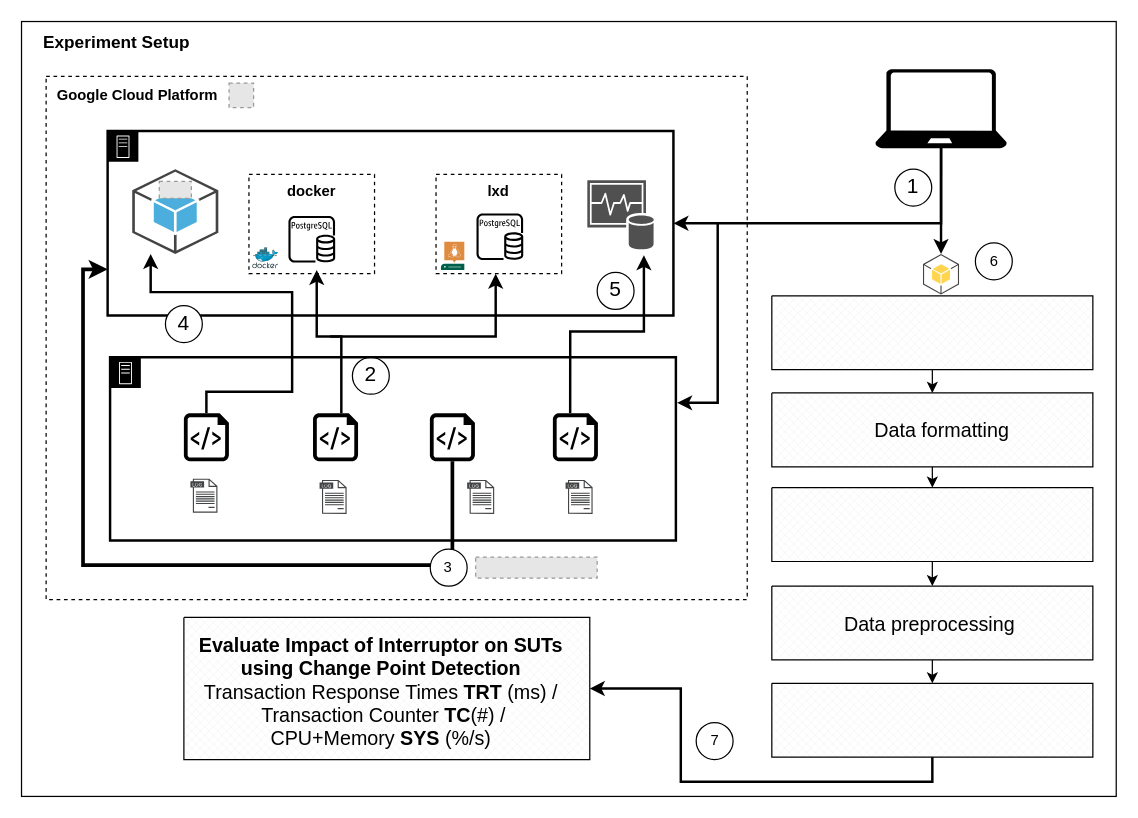
Some shapes in this 1138 by 818 pixel diagram are drawn without their labels. Grey dashed boxes stand in for pictures. The box of each missing label's shape, as (x1, y1, x2, y2) in pixels:
Benchmark-Server: (108, 355, 676, 541)
Data visualization: (771, 486, 1093, 561)
Detect change points: (771, 682, 1093, 757)
Download Logs: (771, 295, 1093, 370)
SUT-Server: (106, 129, 674, 316)
